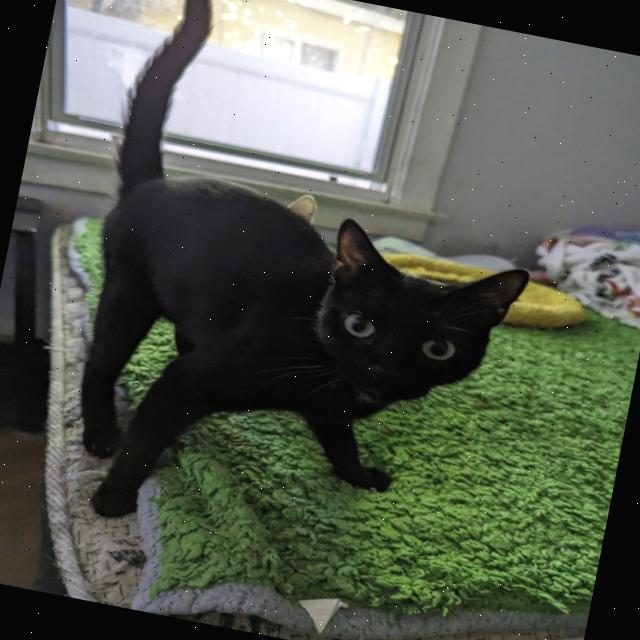bombay_cat: (286, 208, 540, 434)
